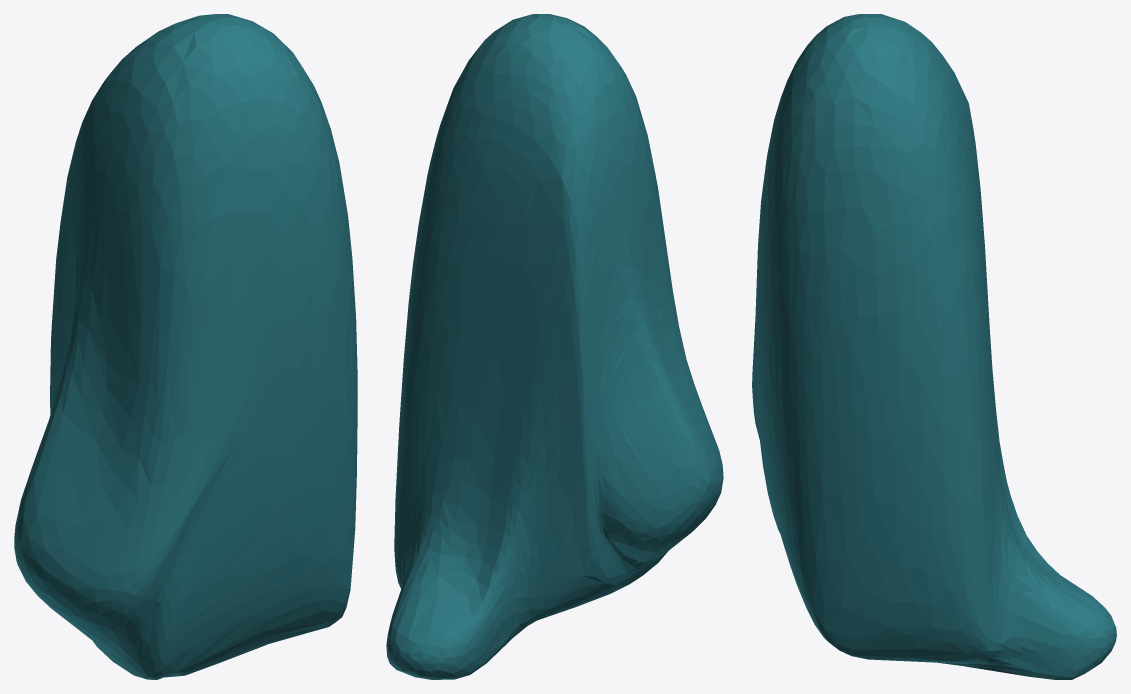
3 views of the same model, side by side, from view 1: azimuth 30°, elevation 25°; view 2: azimuth 150°, elevation 25°; view 3: azimuth 270°, elevation 25° (orthographic). The views are drawn at different scales.
Parts seen in each view (by area): view 1: 652_Cube.2621; view 2: 652_Cube.2621; view 3: 652_Cube.2621.
Part boxes in pixels (x1,y1,x2,y2): 652_Cube.2621: (14, 14, 357, 679); 652_Cube.2621: (386, 14, 723, 679); 652_Cube.2621: (752, 14, 1116, 679).
Size of the model in its own units: 5.99 by 11.98 by 6.29.
